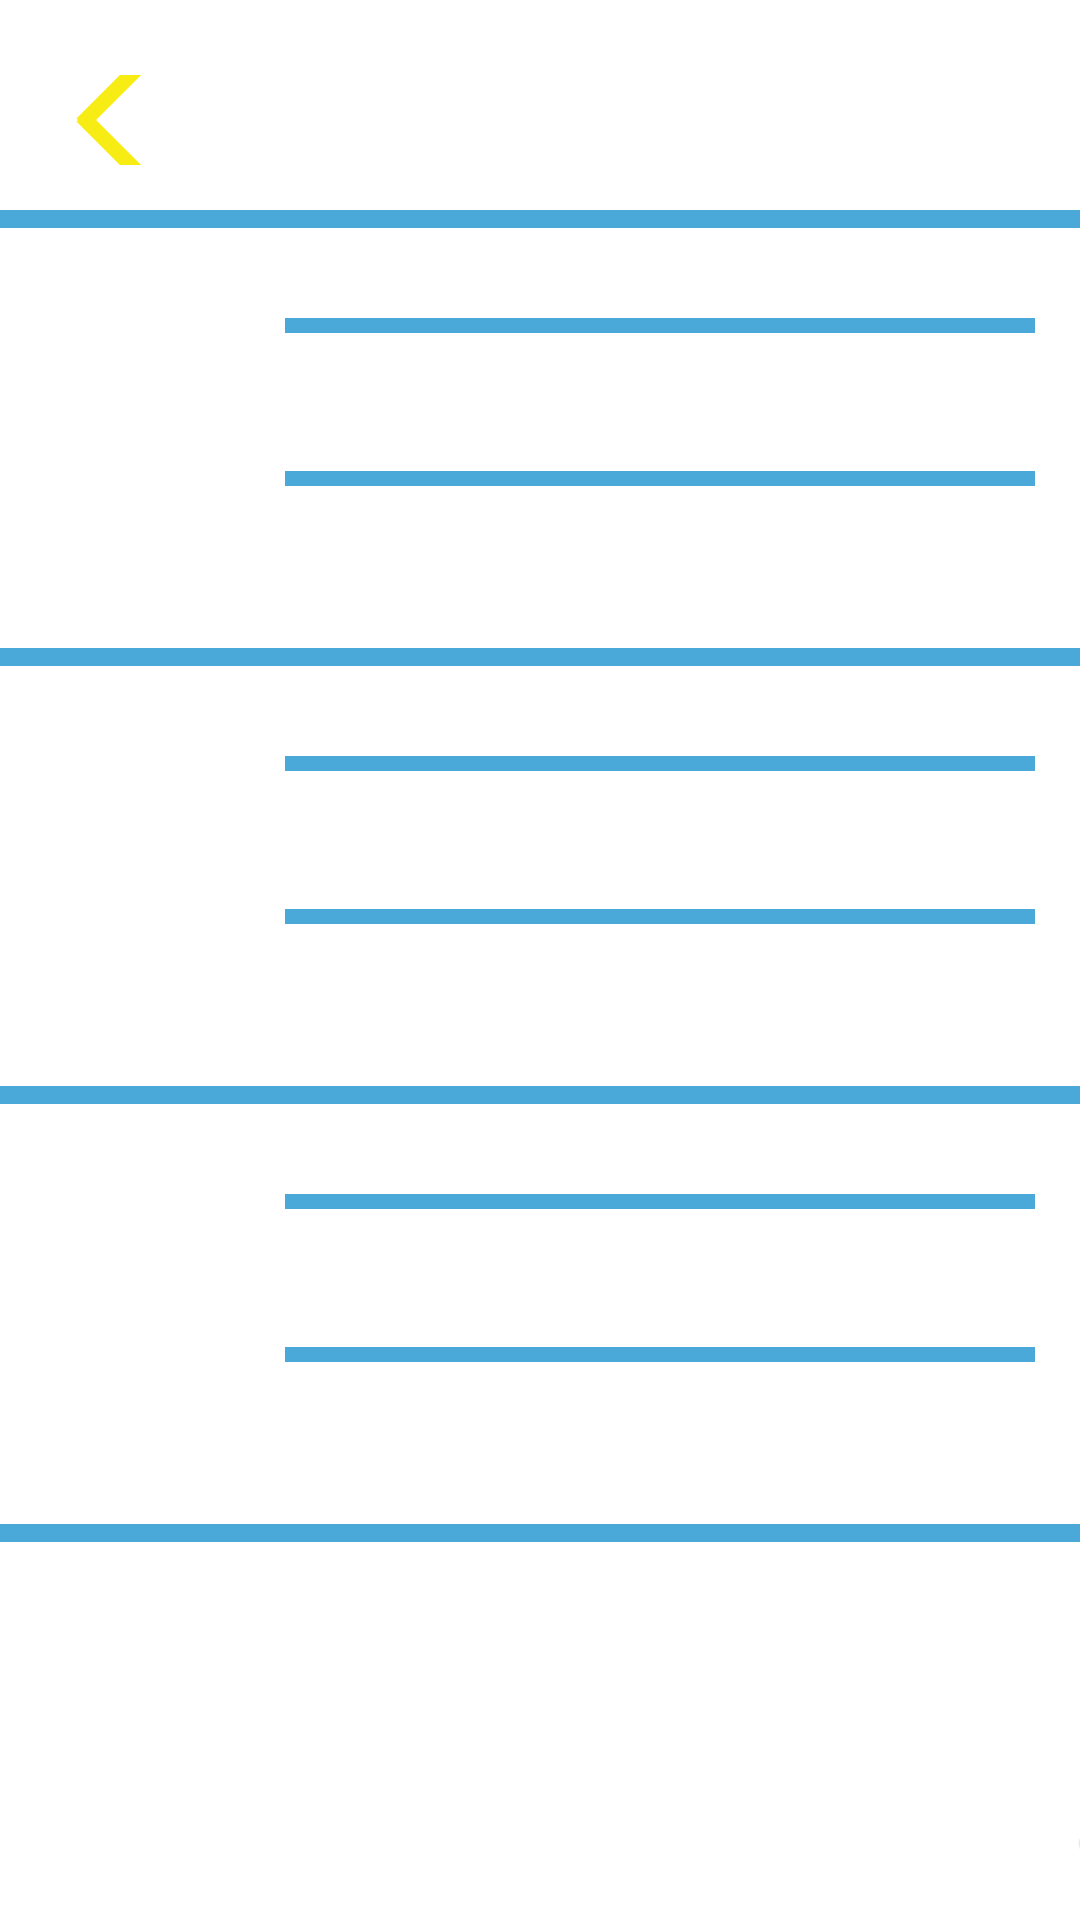

Icons on this 1080×1920 Android screen, each with its box as (x1, y1, x2, y2):
flecha: (76, 75, 141, 165)
